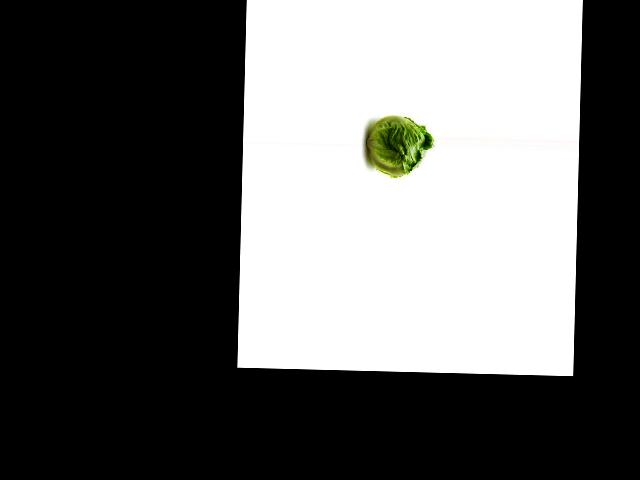lettuce: (363, 112, 434, 184)
